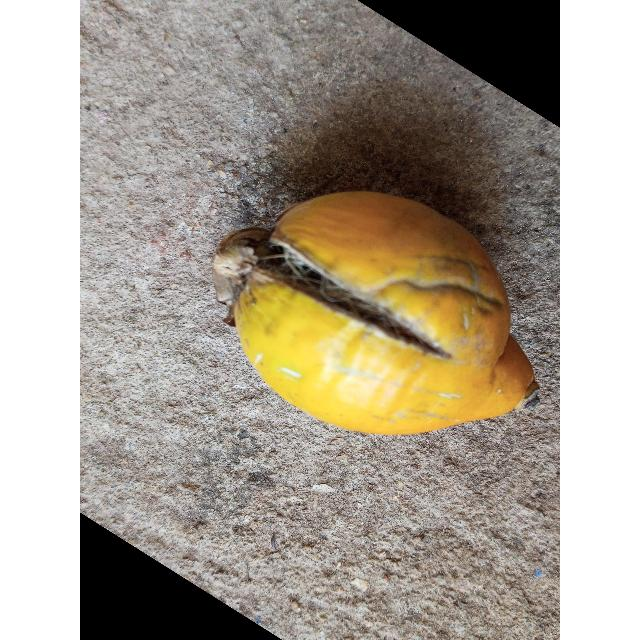damaged: (211, 191, 540, 439)
